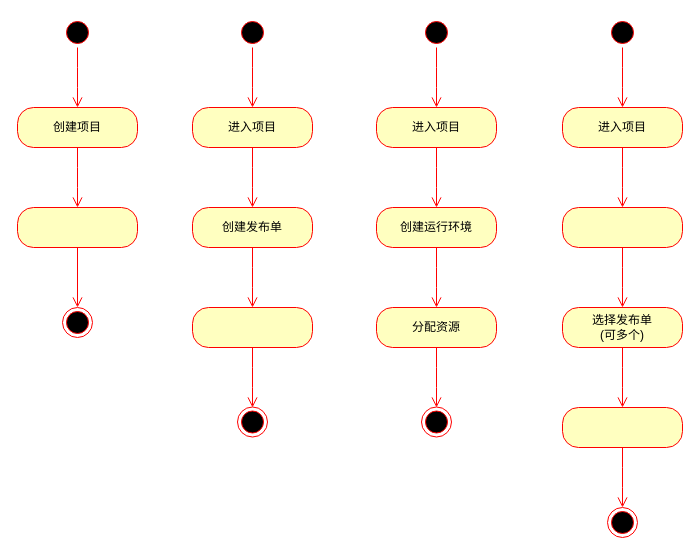
Image size: 700x555. Some labels were removed from this diagram. Each missing label, with the box of its shape:
CI/CD: (562, 406, 682, 448)
创建代码: (16, 206, 138, 248)
创建代码分支: (192, 306, 312, 348)
选择运行环境 (日常/预发/正式): (562, 206, 682, 248)
